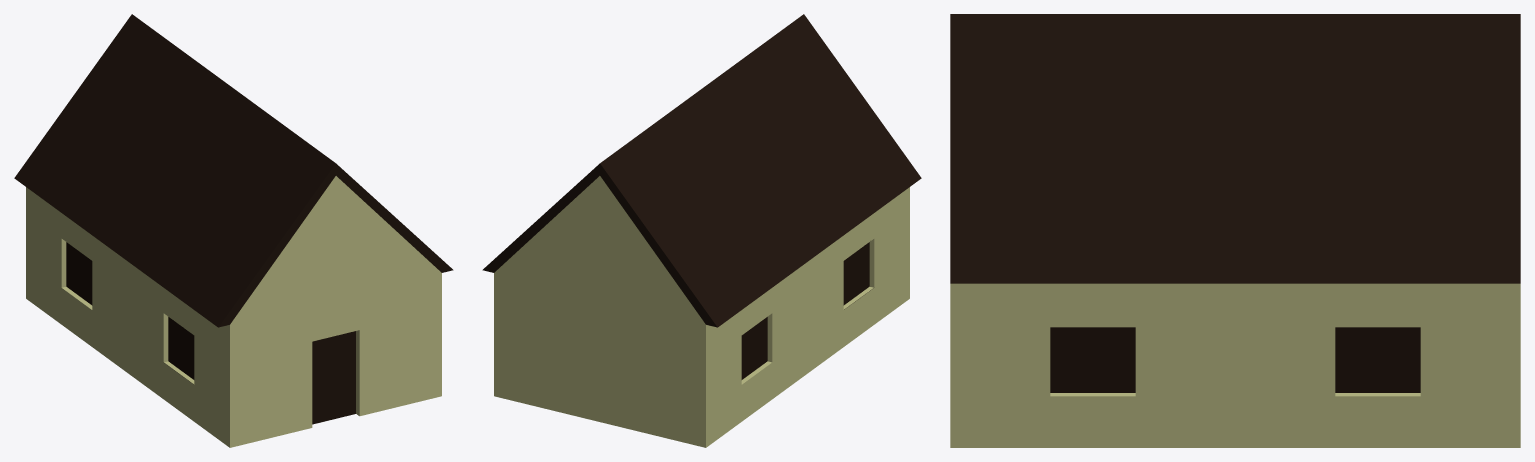
The model's file is hause1.glb.
The picture shows the model from 3 angles, left to right: view 1: azimuth 30°, elevation 25°; view 2: azimuth 150°, elevation 25°; view 3: azimuth 270°, elevation 25°; orthographic projection. The views are drawn at different scales.
Visible parts, largest first — view 1: House-col; view 2: House-col; view 3: House-col.
Part boxes in pixels (x1,y1,x2,y2): House-col: (14, 14, 453, 447); House-col: (482, 14, 921, 447); House-col: (950, 14, 1520, 447).
Size of the model in its own units: 20 by 21 by 30.
1 material, 1 textured.
